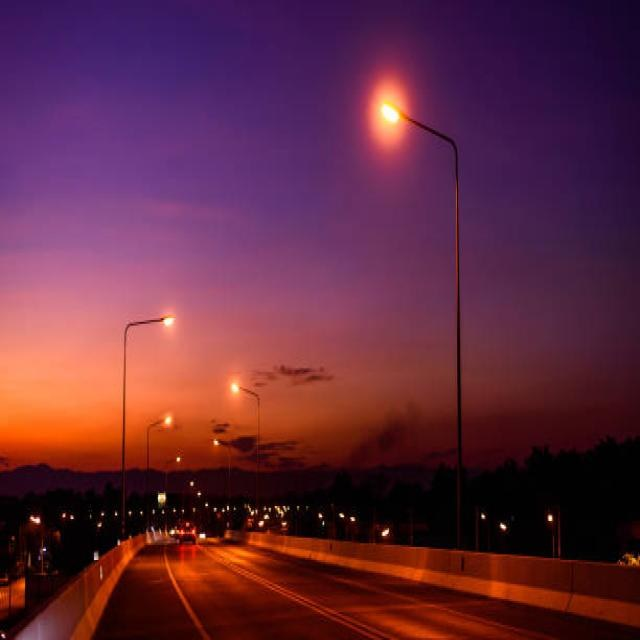acesa: (363, 66, 420, 158), (228, 374, 249, 402), (162, 314, 175, 326)
